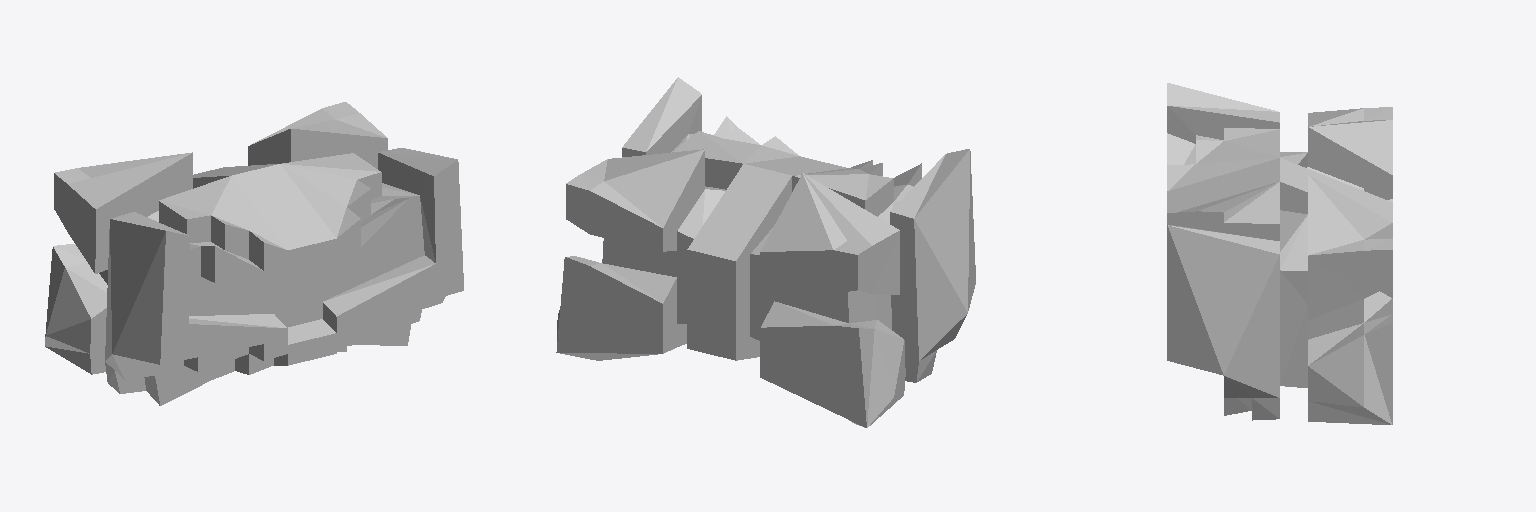
File: HomingPlasmaBot_LOD0-1.obj
3 views of the same model, side by side, from view 1: azimuth 30°, elevation 25°; view 2: azimuth 150°, elevation 25°; view 3: azimuth 270°, elevation 25° (orthographic).
Parts seen in each view (by area): view 1: HomingPlasmaBot_LOD0-1; view 2: HomingPlasmaBot_LOD0-1; view 3: HomingPlasmaBot_LOD0-1.
Part boxes in pixels (bbox=[...]): HomingPlasmaBot_LOD0-1: bbox=[45, 102, 463, 405]; HomingPlasmaBot_LOD0-1: bbox=[556, 77, 975, 427]; HomingPlasmaBot_LOD0-1: bbox=[1167, 83, 1392, 424].
Bounding box in the file's own units: 1.41 × 0.8258 × 0.8.